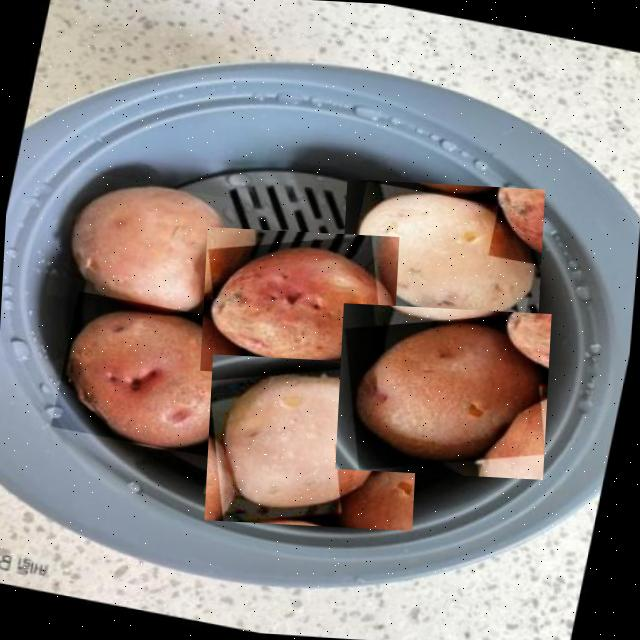Potato: (203, 353, 420, 530), (334, 302, 550, 479), (51, 291, 262, 462), (45, 167, 244, 328), (339, 178, 544, 334), (200, 226, 398, 380)
